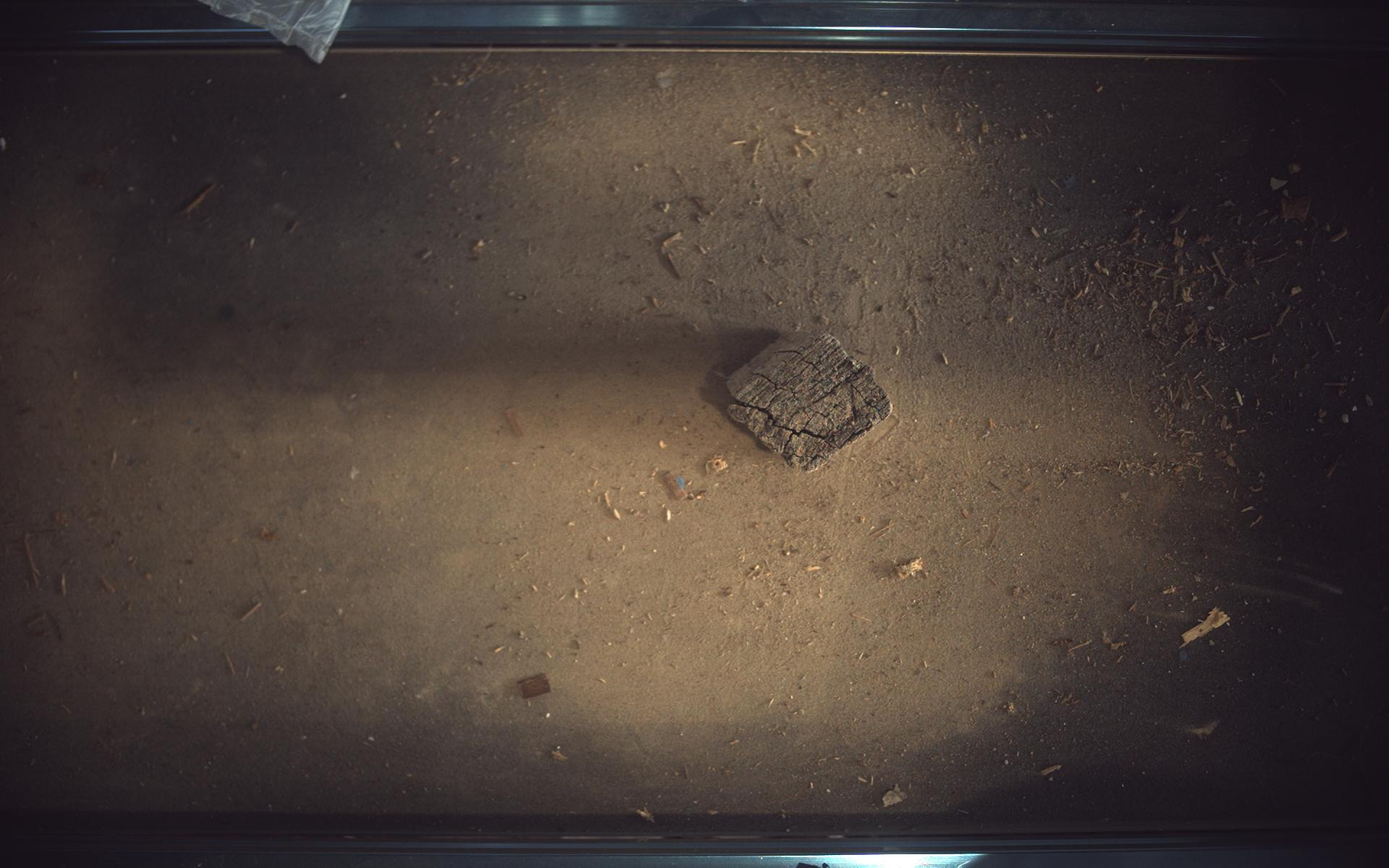wood: (728, 331, 893, 471)
